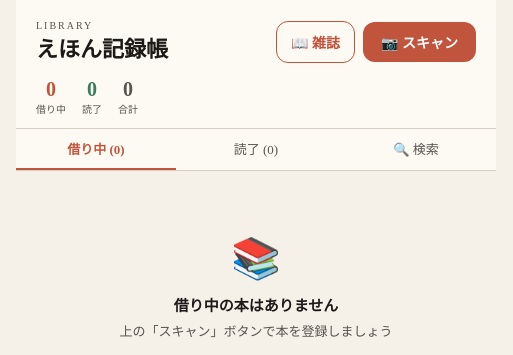
Test: MainApp — tabs › when the history tab is empty, it should explain what will appear there
Click the button "読了 (0)": (256, 150) [176,129,336,170]
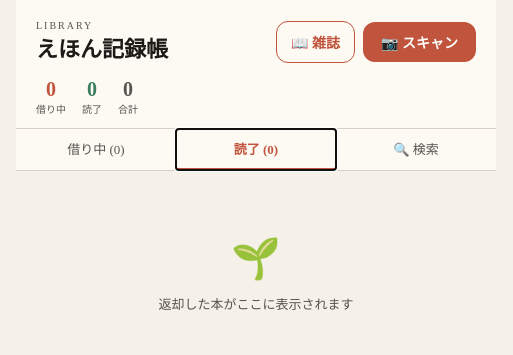
Expected: the text "返却した本がここに表示されます" is shown, [158,297,354,312]
